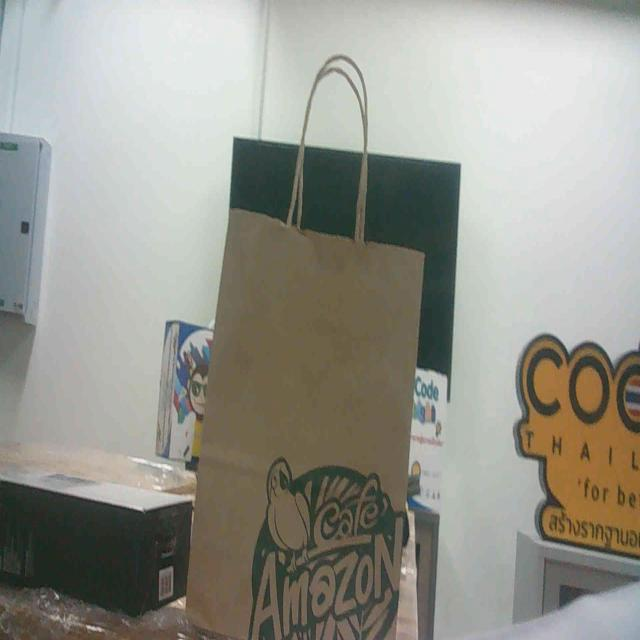bag: (187, 180, 446, 640)
